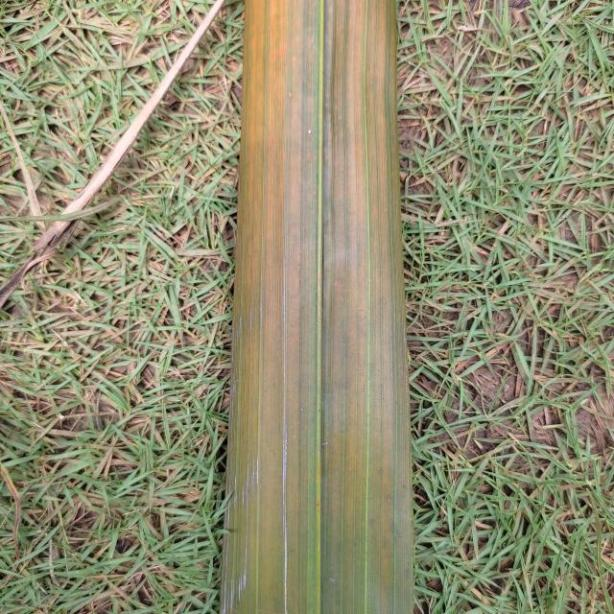Megnesium: (224, 0, 420, 614)
